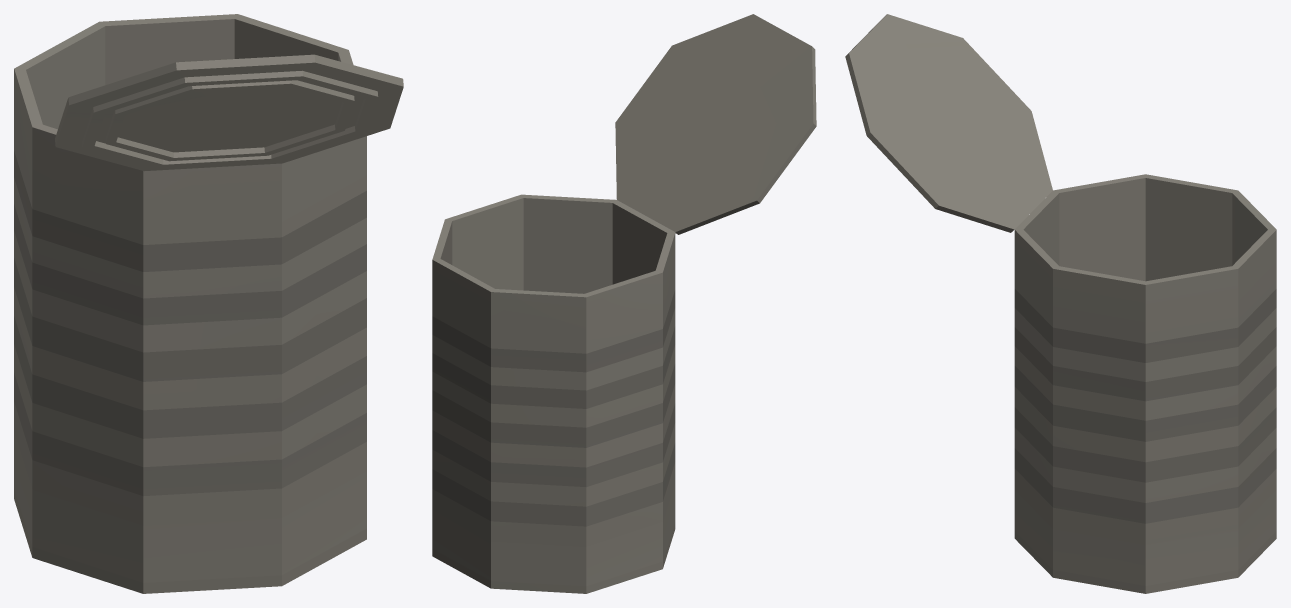
File: can.fbx
3 renders of one model, left to right at view 1: azimuth 30°, elevation 25°; view 2: azimuth 150°, elevation 25°; view 3: azimuth 270°, elevation 25°, orthographic. The views are drawn at different scales.
Parts seen in each view (by area): view 1: polySurface2183, polySurface2184; view 2: polySurface2183, polySurface2184; view 3: polySurface2183, polySurface2184.
Part boxes in pixels (bbox=[...]): polySurface2183: bbox=[14, 14, 366, 593]; polySurface2184: bbox=[55, 54, 403, 171]; polySurface2183: bbox=[432, 194, 675, 593]; polySurface2184: bbox=[615, 14, 816, 234]; polySurface2183: bbox=[1014, 174, 1276, 593]; polySurface2184: bbox=[845, 14, 1052, 232].
Bounding box in the file's own units: 2.48 × 3.68 × 3.15.
Materials: 1 (1 with a texture image).
